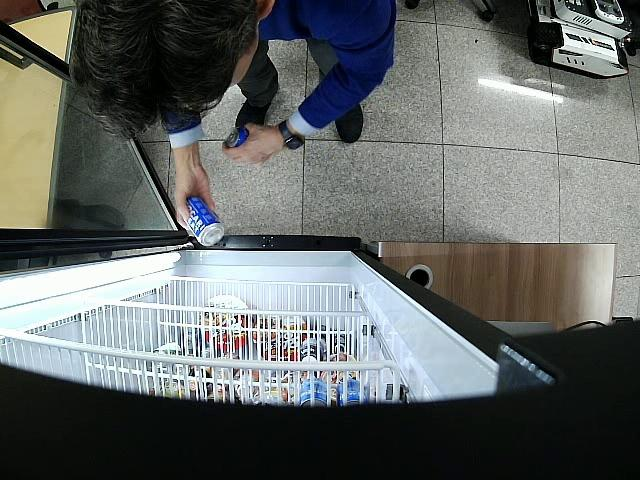00_hand: (173, 152, 216, 230), (222, 126, 280, 169)
13_pocariSweat: (187, 196, 225, 246), (225, 127, 249, 146)
